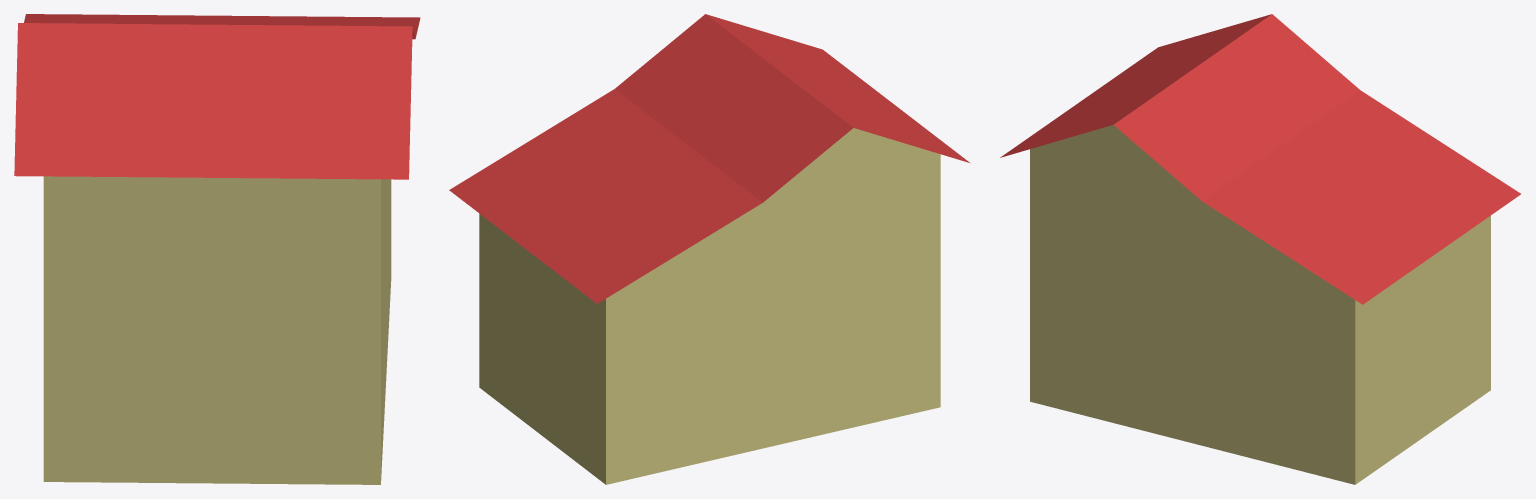
3 renders of one model, left to right at view 1: azimuth 30°, elevation 25°; view 2: azimuth 150°, elevation 25°; view 3: azimuth 270°, elevation 25°, orthographic. The views are drawn at different scales.
Size of the model in its own units: 10.82 by 11.72 by 7.66.
